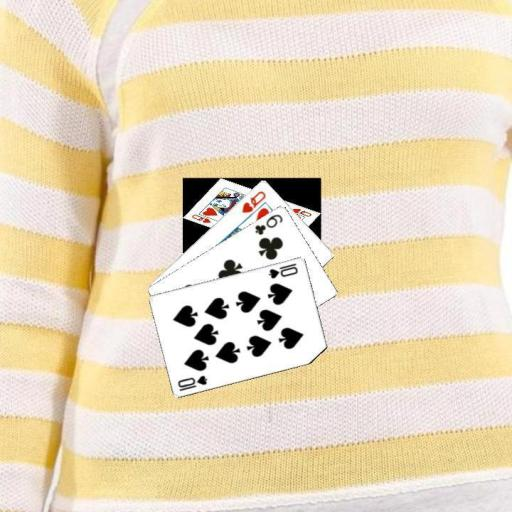card-corner: (252, 211, 284, 236), (238, 188, 268, 214), (266, 260, 300, 280), (175, 372, 209, 392)
